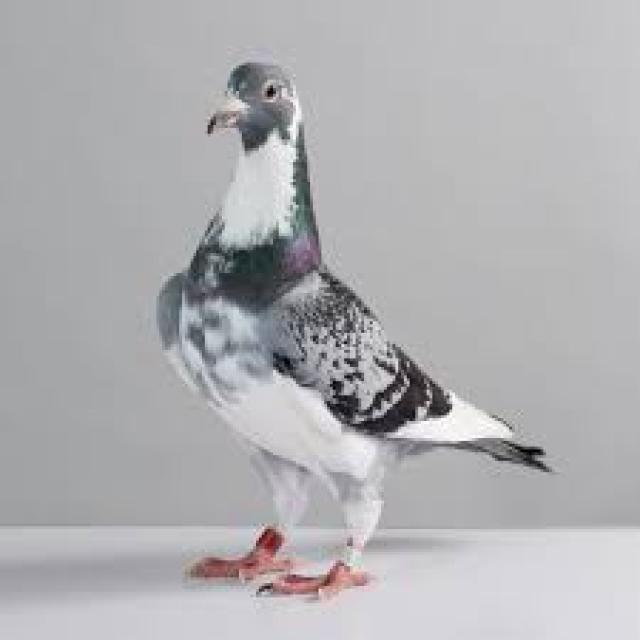pigeon: (142, 50, 566, 613)
